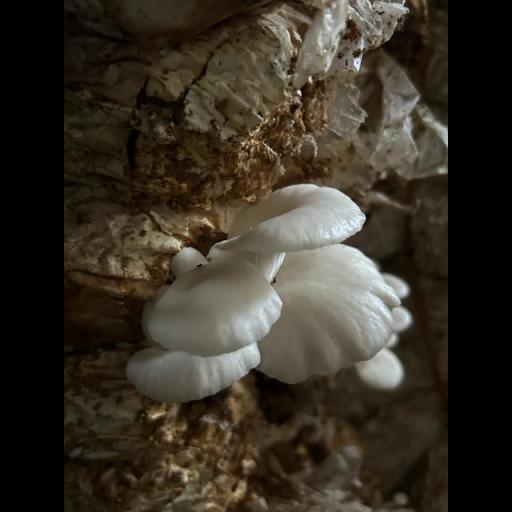White Oyster Mushroom: (130, 232, 405, 397), (215, 184, 363, 257)
